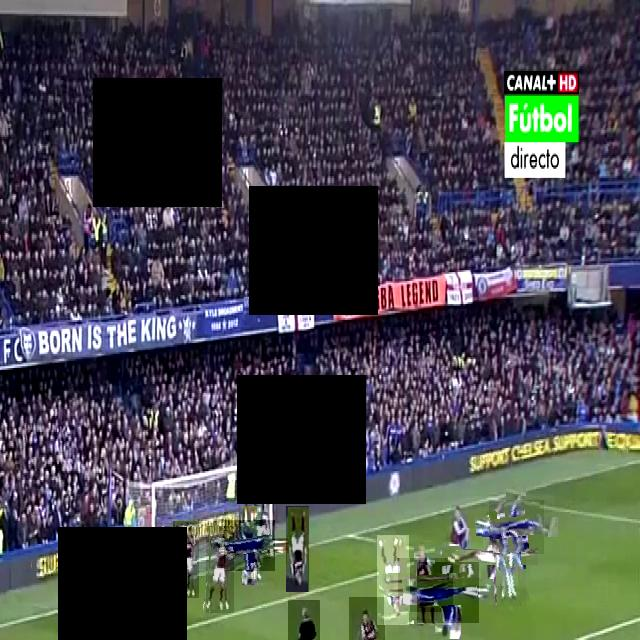ball: (288, 600, 320, 640)
soccer-player: (417, 562, 479, 623), (462, 528, 518, 586), (398, 558, 453, 612), (489, 500, 544, 554), (378, 535, 410, 625), (492, 522, 526, 606), (224, 520, 275, 571), (206, 526, 234, 613), (173, 521, 199, 598), (286, 506, 309, 592), (349, 597, 385, 640)
